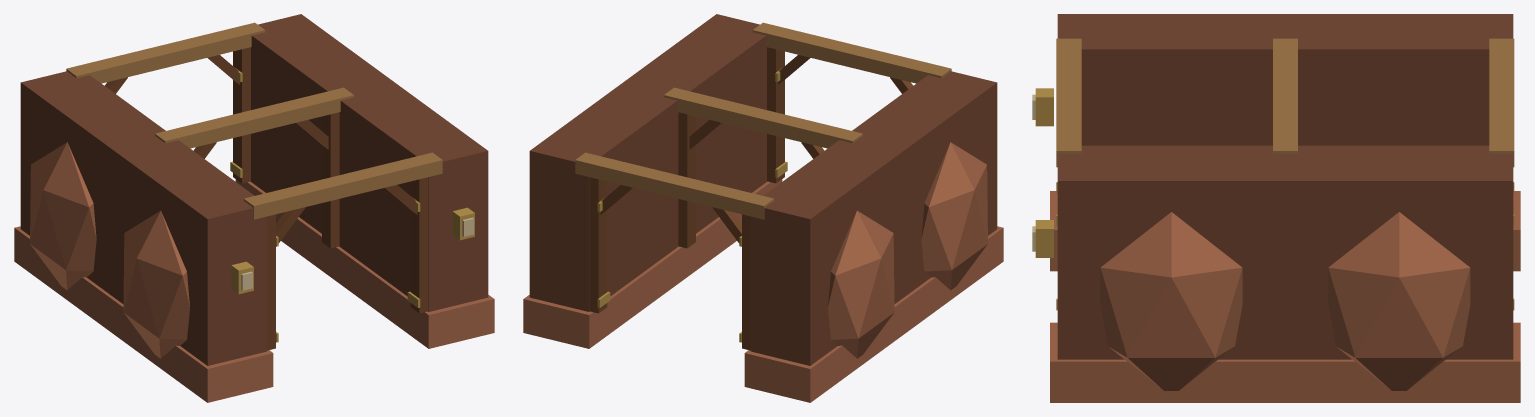
File: Desert_MinePassage_Showcase.glb
3 views of the same model, side by side, from view 1: azimuth 30°, elevation 25°; view 2: azimuth 150°, elevation 25°; view 3: azimuth 270°, elevation 25° (orthographic). The views are drawn at different scales.
Parts seen in each view (by area): view 1: Desert_MinePassage_Showcase; view 2: Desert_MinePassage_Showcase; view 3: Desert_MinePassage_Showcase.
Part boxes in pixels (<box>): Desert_MinePassage_Showcase: <box>14,14,494,402</box>; Desert_MinePassage_Showcase: <box>523,14,1003,402</box>; Desert_MinePassage_Showcase: <box>1032,14,1520,402</box>.
Bounding box in the file's own units: 6.09 × 3.24 × 6.43.
